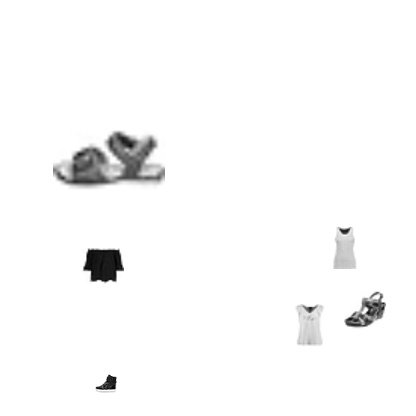0: (106, 40, 162, 96)
2: (346, 256, 374, 284), (230, 140, 252, 162)
Ankle_boot: (18, 92, 102, 176)
Bag: (279, 92, 363, 176)
T-shirt/top: (51, 174, 93, 216), (229, 311, 271, 353)
